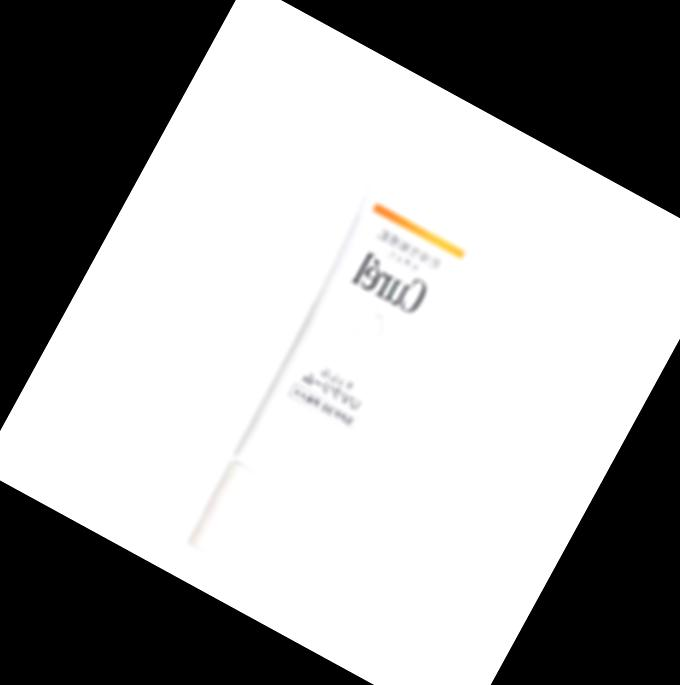cosmetic: (170, 126, 523, 603)
